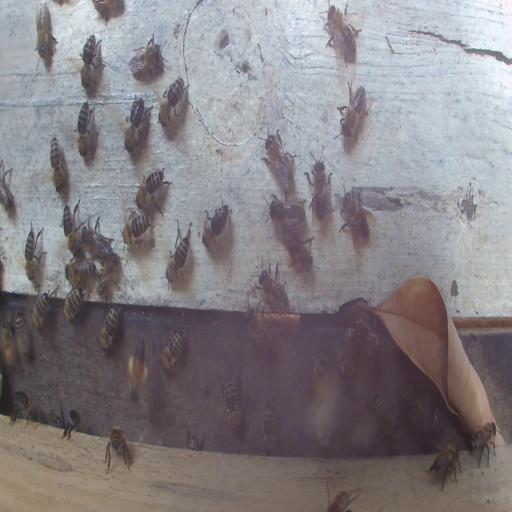bee: (332, 77, 374, 150), (337, 183, 373, 251), (323, 3, 359, 67), (304, 144, 332, 224), (166, 218, 194, 287), (127, 33, 170, 77), (135, 165, 172, 216), (426, 442, 462, 492), (263, 128, 296, 182), (201, 200, 232, 250), (75, 100, 98, 166), (127, 333, 148, 405), (158, 78, 189, 125), (23, 220, 46, 283), (242, 304, 272, 352), (260, 260, 289, 309), (35, 2, 57, 66), (80, 34, 103, 95), (123, 95, 147, 153), (398, 387, 429, 431), (469, 420, 497, 468), (104, 424, 132, 472), (80, 217, 112, 259), (353, 317, 382, 363), (371, 390, 397, 434), (121, 209, 150, 247), (222, 371, 241, 429), (62, 206, 82, 260), (311, 352, 330, 408), (160, 326, 183, 372), (31, 288, 54, 332), (98, 305, 120, 351), (49, 135, 65, 193), (339, 325, 356, 379), (65, 260, 96, 288), (10, 391, 36, 424), (2, 317, 16, 372), (327, 487, 358, 511), (0, 159, 14, 211), (15, 307, 29, 359), (262, 398, 275, 454), (63, 285, 83, 320), (62, 406, 82, 440), (50, 410, 62, 426)
